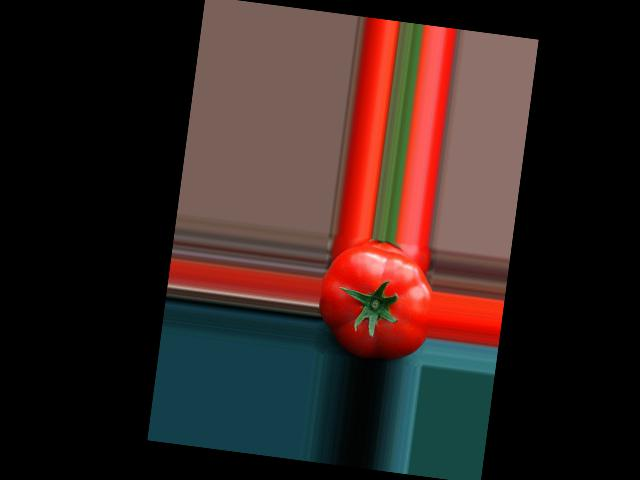tomato: (311, 240, 437, 365)
